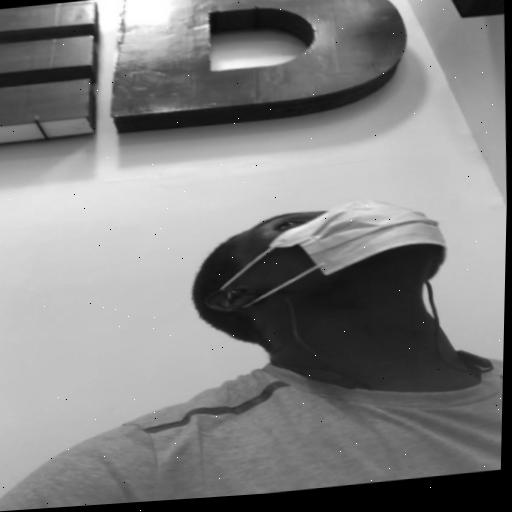mask: (227, 189, 450, 303)
